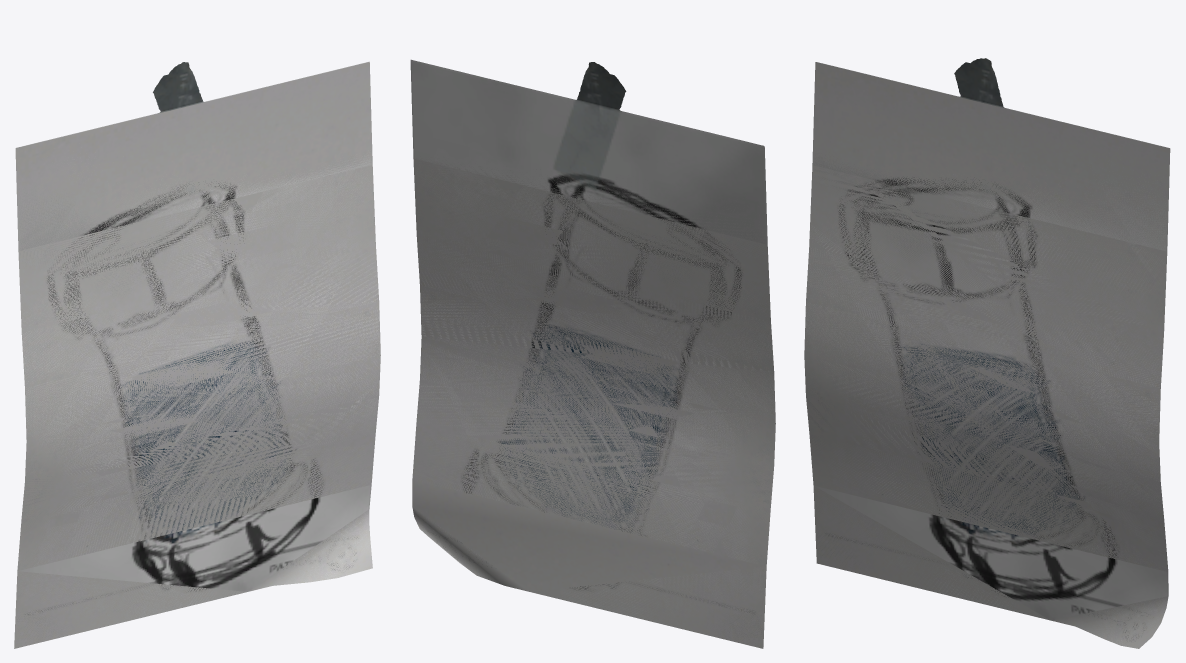
File: notes_herber_container.dae
The picture shows the model from 3 angles, left to right: view 1: azimuth 30°, elevation 25°; view 2: azimuth 150°, elevation 25°; view 3: azimuth 330°, elevation 25°; orthographic projection.
Parts seen in each view (by area): view 1: container; view 2: container; view 3: container.
Boxes of the visible parts, x1,y1,x2,y2 form: container: (14, 61, 380, 648); container: (410, 59, 775, 648); container: (804, 58, 1170, 648).
Bounding box in the file's own units: 0.259 × 0.3839 × 0.0235.
